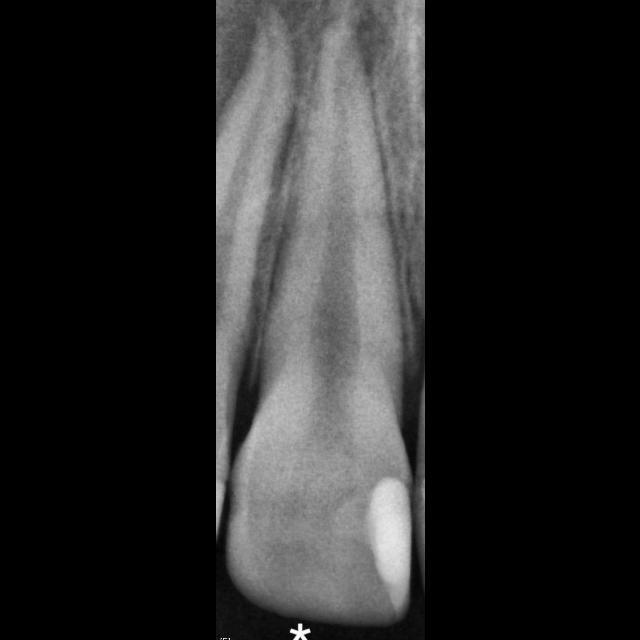tooth: (226, 18, 414, 626)
